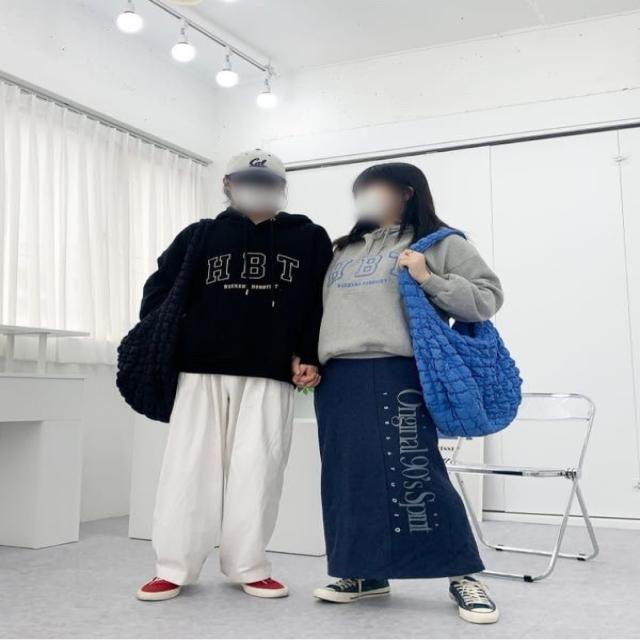cottonpants: (152, 365, 295, 589)
mtm: (151, 207, 328, 386), (318, 224, 502, 358)
skirt: (312, 353, 471, 580)
